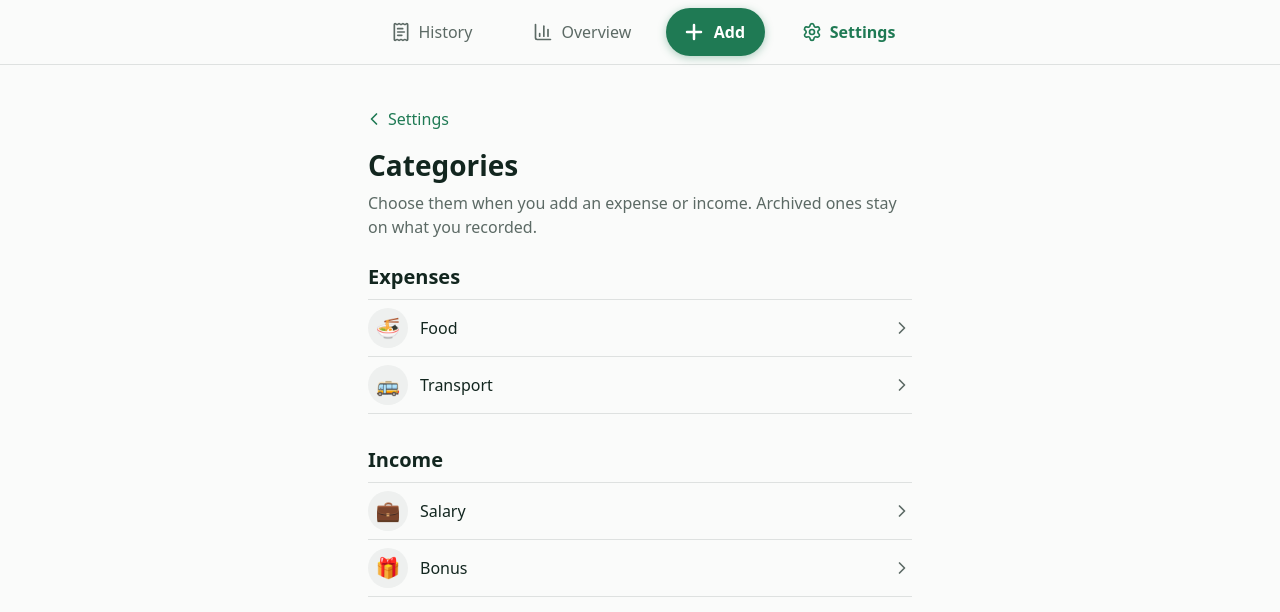
Test: Categories › renames a category, sending only the name
Click the button "🍜 Food" at (388, 328), box [368,300,912,356]
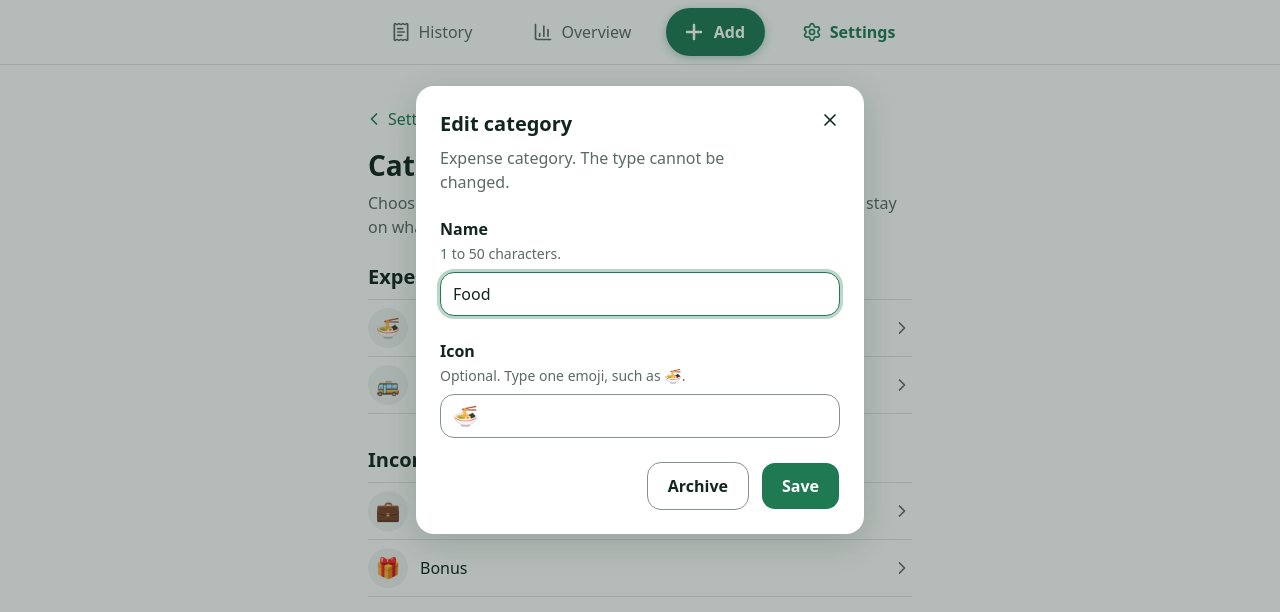
expect the dialog "Edit category" shows "Expense category. The type cannot be changed.": met, box [440,147,724,193]
expect the field labelled "Name" holds "Food": met
expect the field labelled "Icon" holds "🍜": met, box [440,394,840,438]
Replace the text in the field labelled "Name" with "Meals" at (640, 294), box [440,272,840,316]
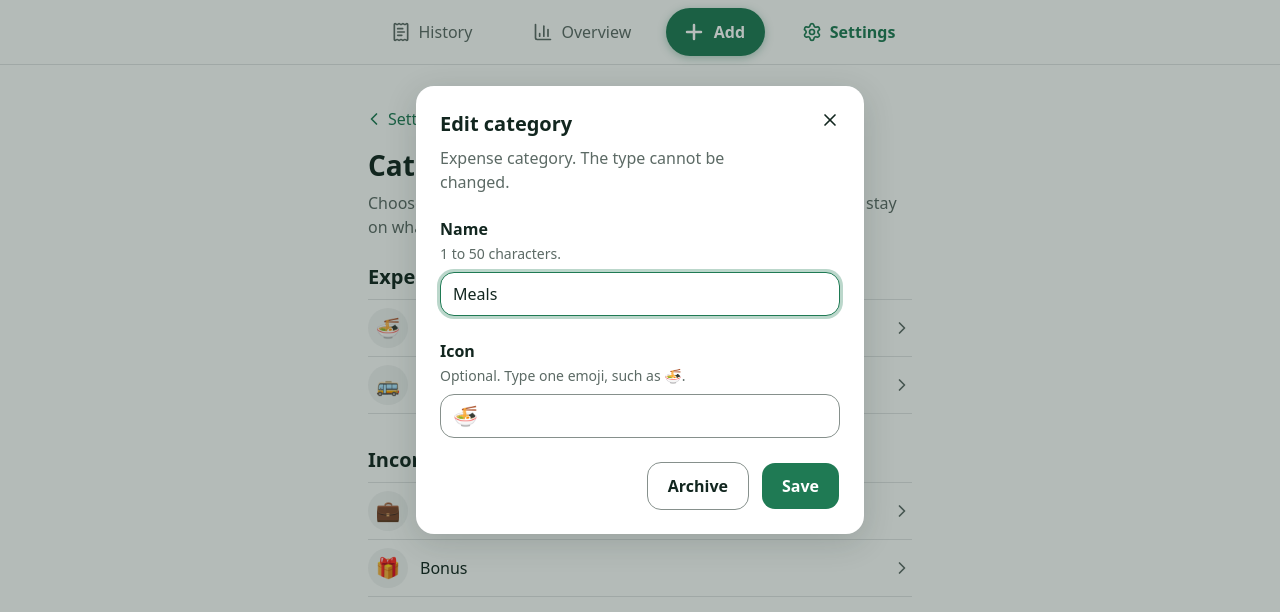
Click the button "Save" at (800, 486), box [761,462,840,510]
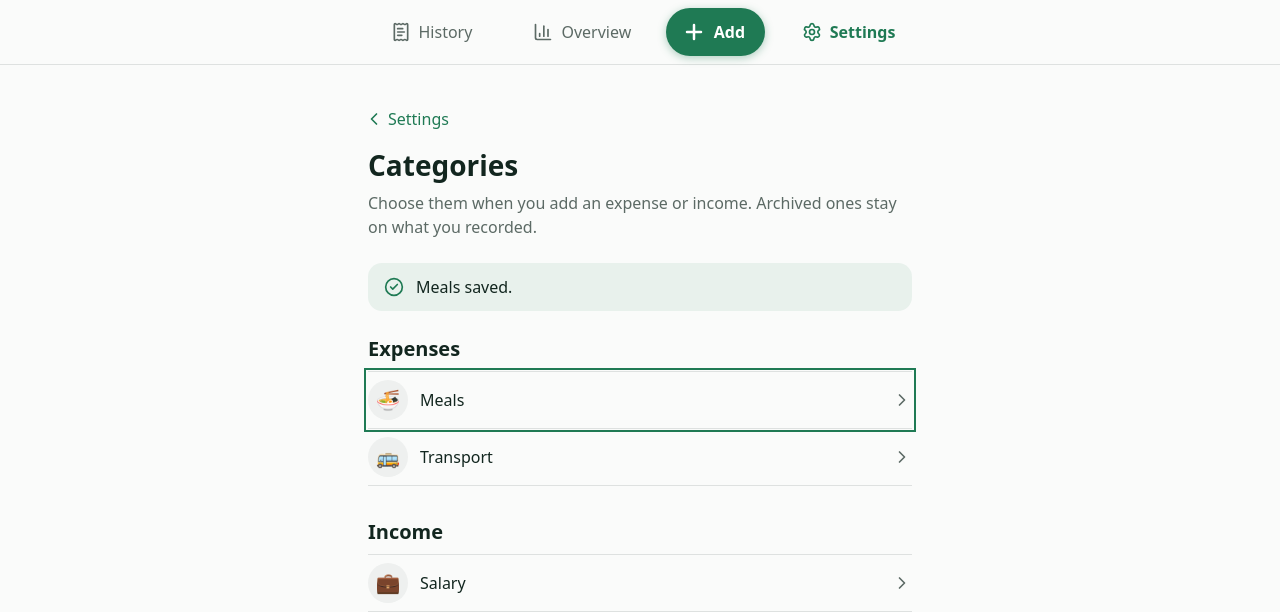
expect the message reads "Meals saved.": met, box [416,276,512,298]
